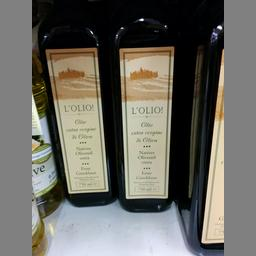oil: (36, 7, 114, 207), (111, 2, 182, 212)
